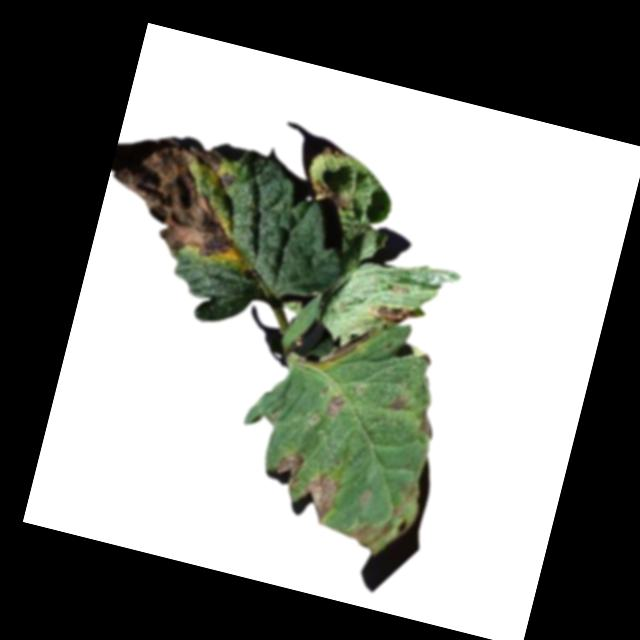Early_blight: (96, 128, 264, 267), (321, 319, 375, 372), (296, 469, 343, 528), (305, 175, 357, 211), (367, 297, 421, 329), (269, 446, 305, 489), (417, 407, 438, 439), (323, 393, 348, 419), (389, 393, 409, 411)
